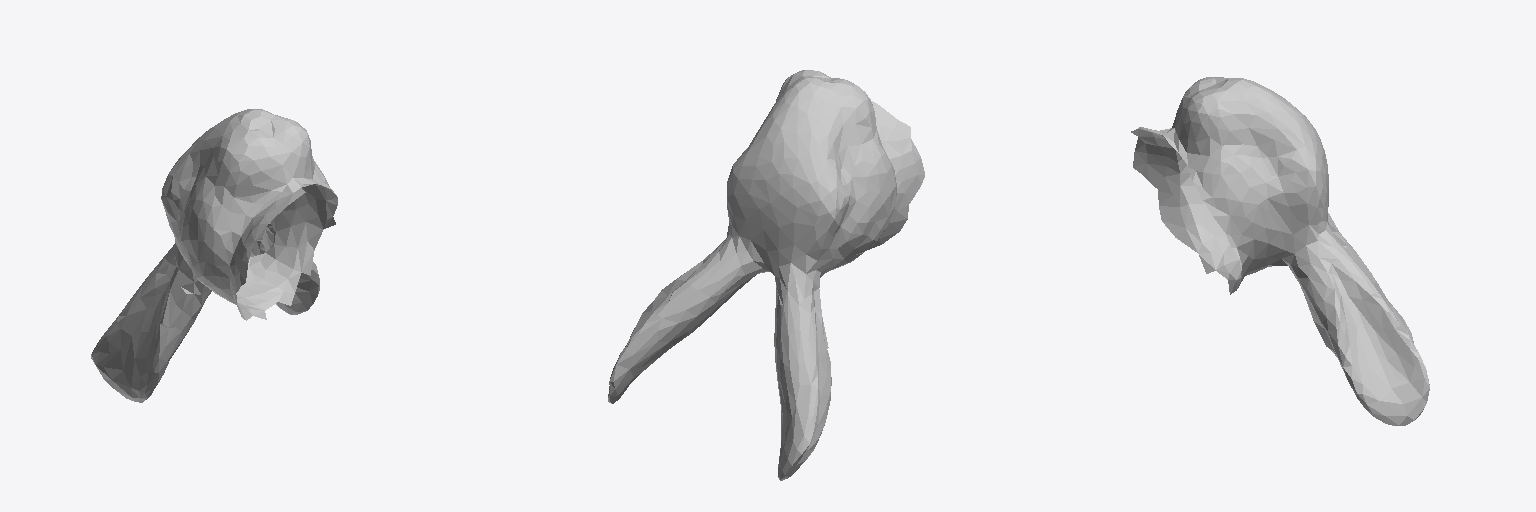
Rendered from BunnyHead.obj.
3 views of the same model, side by side, from view 1: azimuth 30°, elevation 25°; view 2: azimuth 150°, elevation 25°; view 3: azimuth 270°, elevation 25° (orthographic).
Parts seen in each view (by area): view 1: BunnyHead.001; view 2: BunnyHead.001; view 3: BunnyHead.001.
Part boxes in pixels (left/top/right/bottom): BunnyHead.001: left=91, top=109, right=337, bottom=402; BunnyHead.001: left=608, top=70, right=924, bottom=480; BunnyHead.001: left=1131, top=77, right=1429, bottom=425.
Bounding box in the file's own units: 6.51 × 9.95 × 8.18.